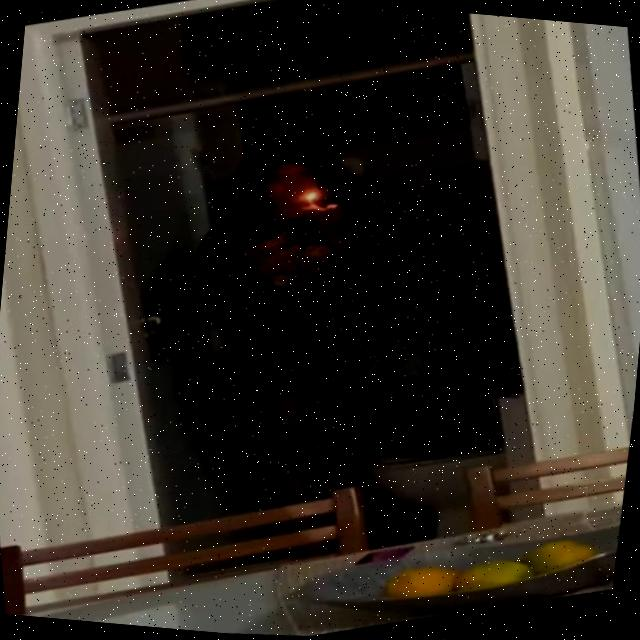fire: (291, 183, 330, 213)
